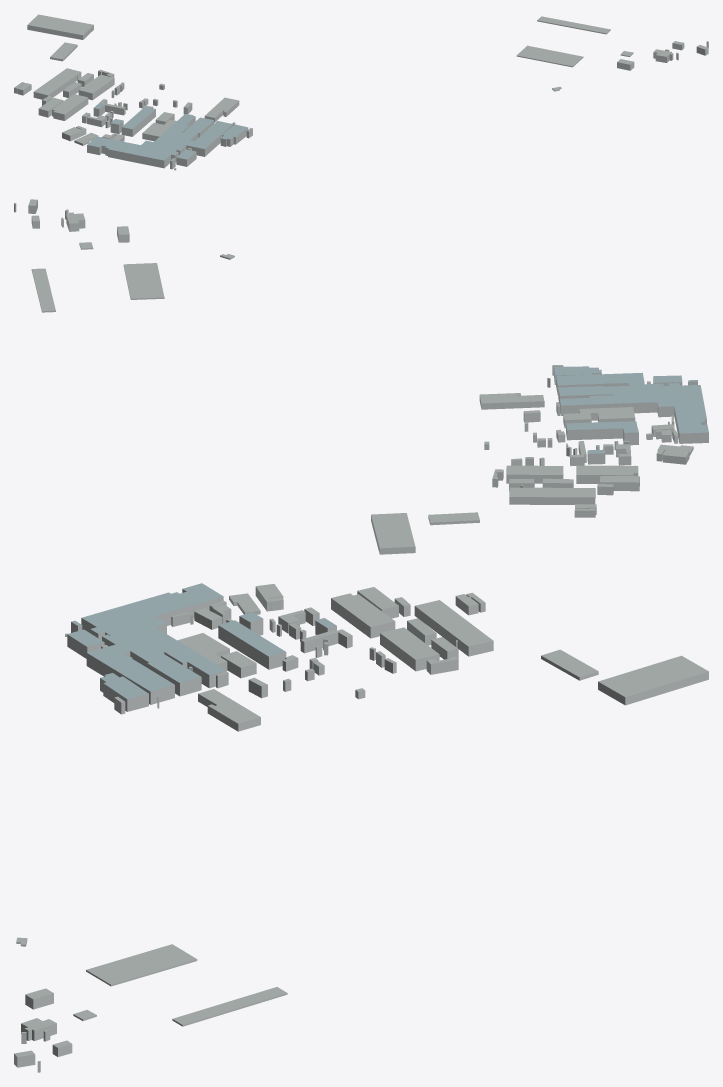
3 views of the same model, one above another, from view 1: azimuth 30°, elevation 25°; view 2: azimuth 150°, elevation 25°; view 3: azimuth 270°, elevation 25° (orthographic). The views are drawn at different scales.
Parts seen in each view (by area): view 1: 上海全域建筑分块 · mapped building neighborhood; view 2: 上海全域建筑分块 · mapped building neighborhood; view 3: 上海全域建筑分块 · mapped building neighborhood.
Boxes of the visible parts, x1=… form: 上海全域建筑分块 · mapped building neighborhood: x1=14, y1=14, x2=708, y2=170; 上海全域建筑分块 · mapped building neighborhood: x1=14, y1=199, x2=708, y2=554; 上海全域建筑分块 · mapped building neighborhood: x1=14, y1=583, x2=708, y2=1072.
Size of the model in its own units: 1504 by 23.54 by 921.
